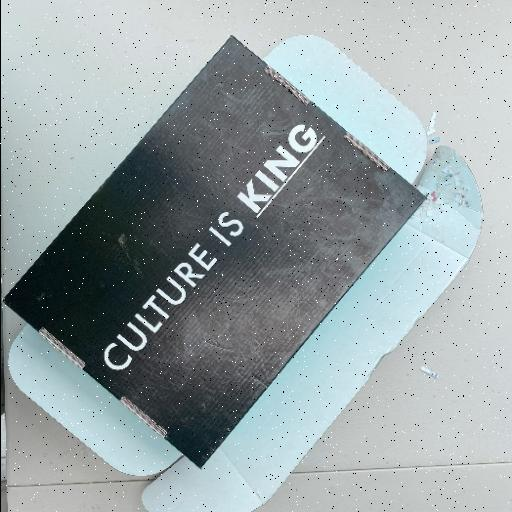Cardboard: (4, 31, 484, 508)
